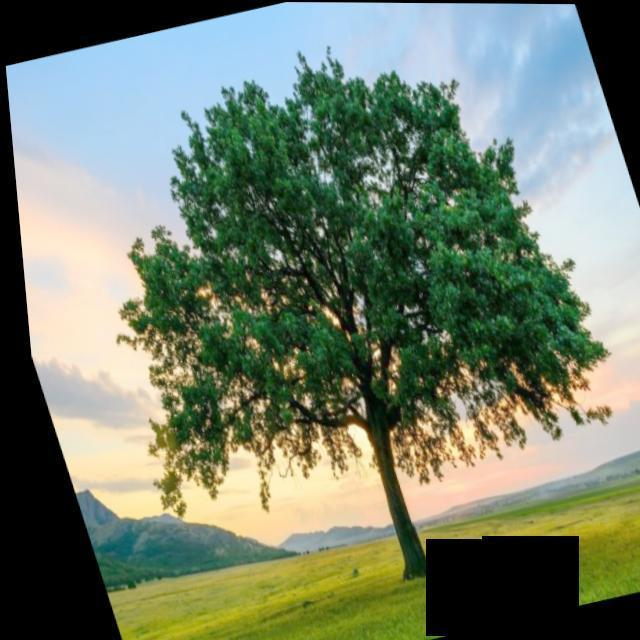tree: (28, 1, 640, 634)
